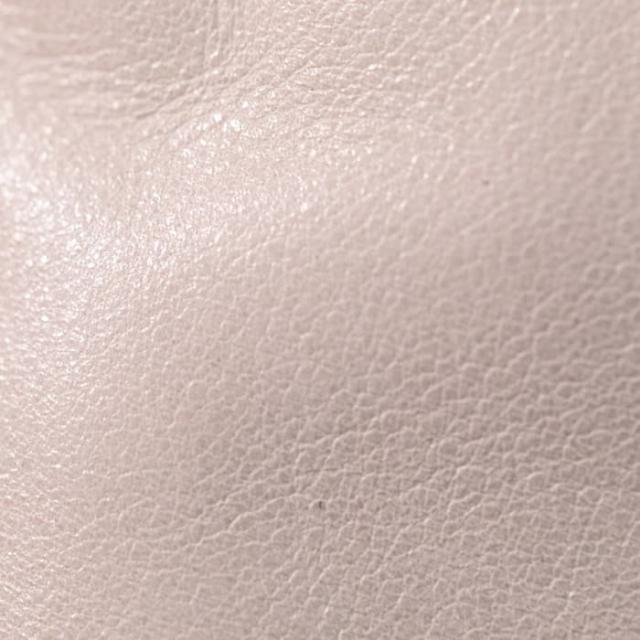Crease: (46, 69, 501, 278)
